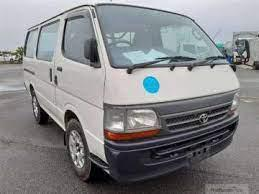van: (22, 2, 239, 182)
